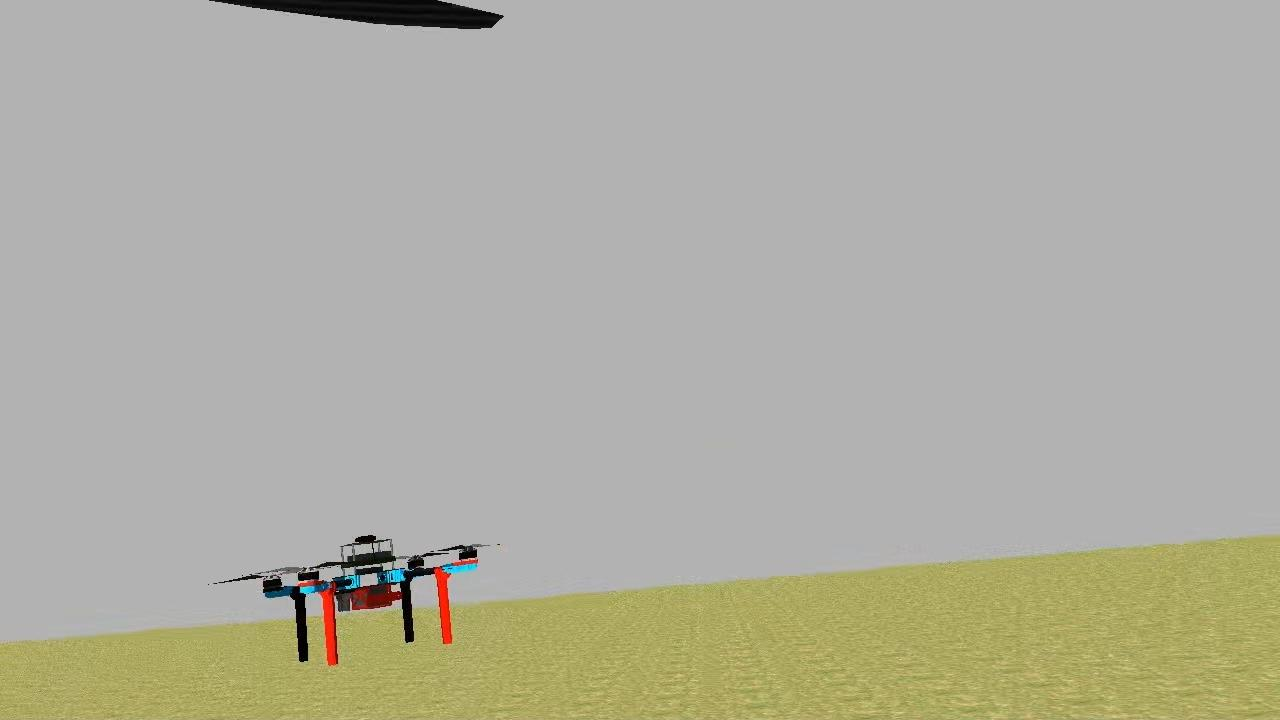UAV: (258, 528, 480, 666)
